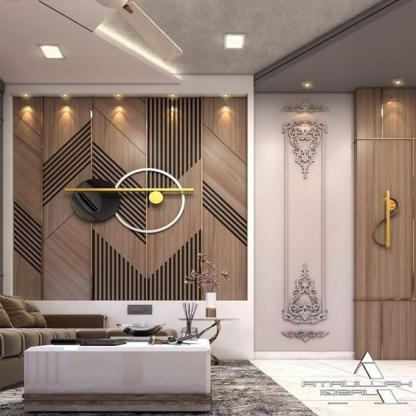Wall Panel: (10, 87, 413, 359)
